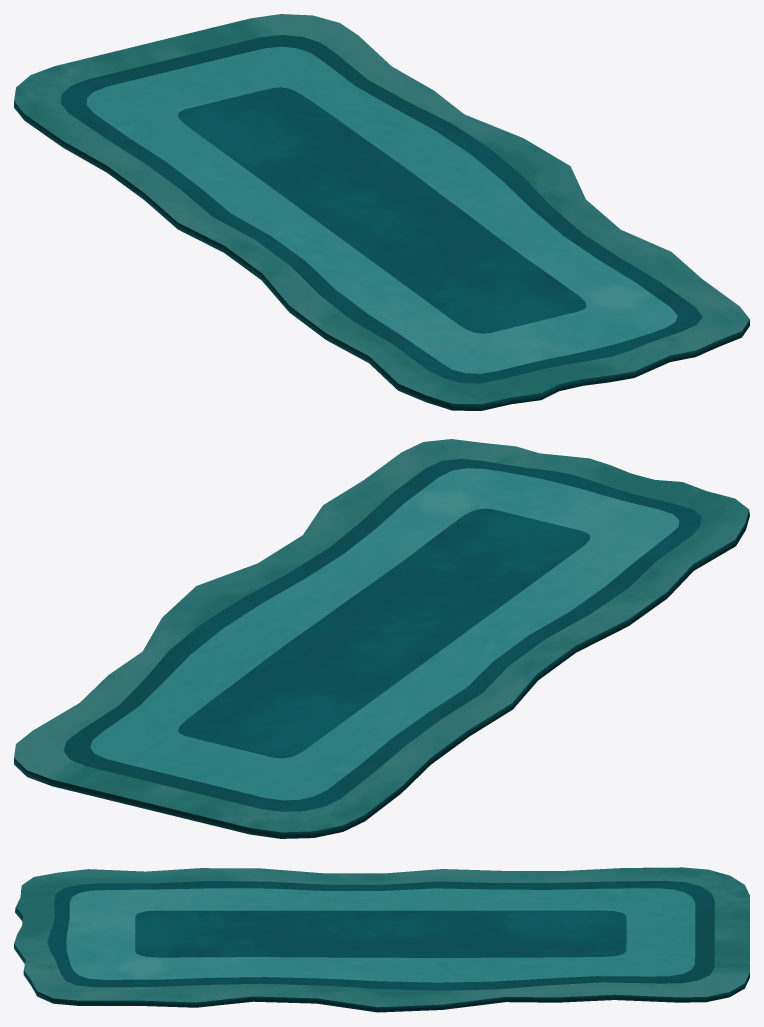
Rendered from Carpet_01.fbx.
3 renders of one model, top to bottom at view 1: azimuth 30°, elevation 25°; view 2: azimuth 150°, elevation 25°; view 3: azimuth 270°, elevation 25°, orthographic. The views are drawn at different scales.
Visible parts, largest first — view 1: Carpet_01; view 2: Carpet_01; view 3: Carpet_01.
Boxes of the visible parts, bbox=[...] form: Carpet_01: bbox=[14, 14, 749, 410]; Carpet_01: bbox=[14, 439, 749, 838]; Carpet_01: bbox=[14, 867, 749, 1012].
Size of the model in its own units: 375 by 6.67 by 834.
